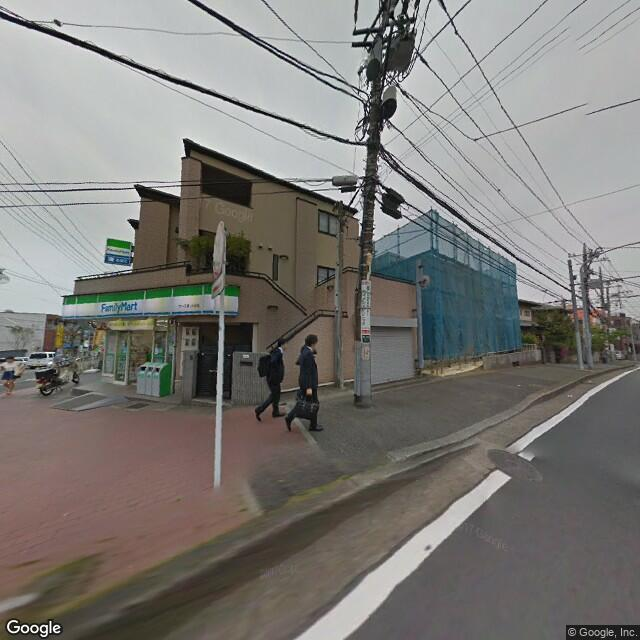family_mart: (59, 279, 247, 322), (102, 235, 134, 271), (97, 301, 141, 314)
